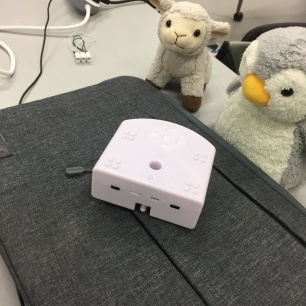thymio: (84, 113, 219, 232)
